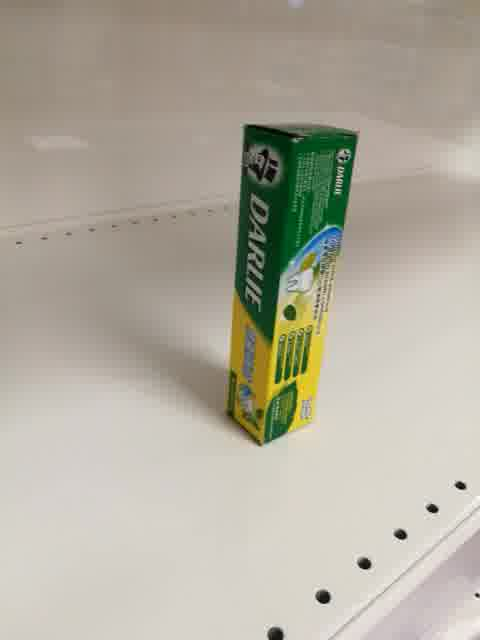toothpaste: (227, 123, 360, 448)
